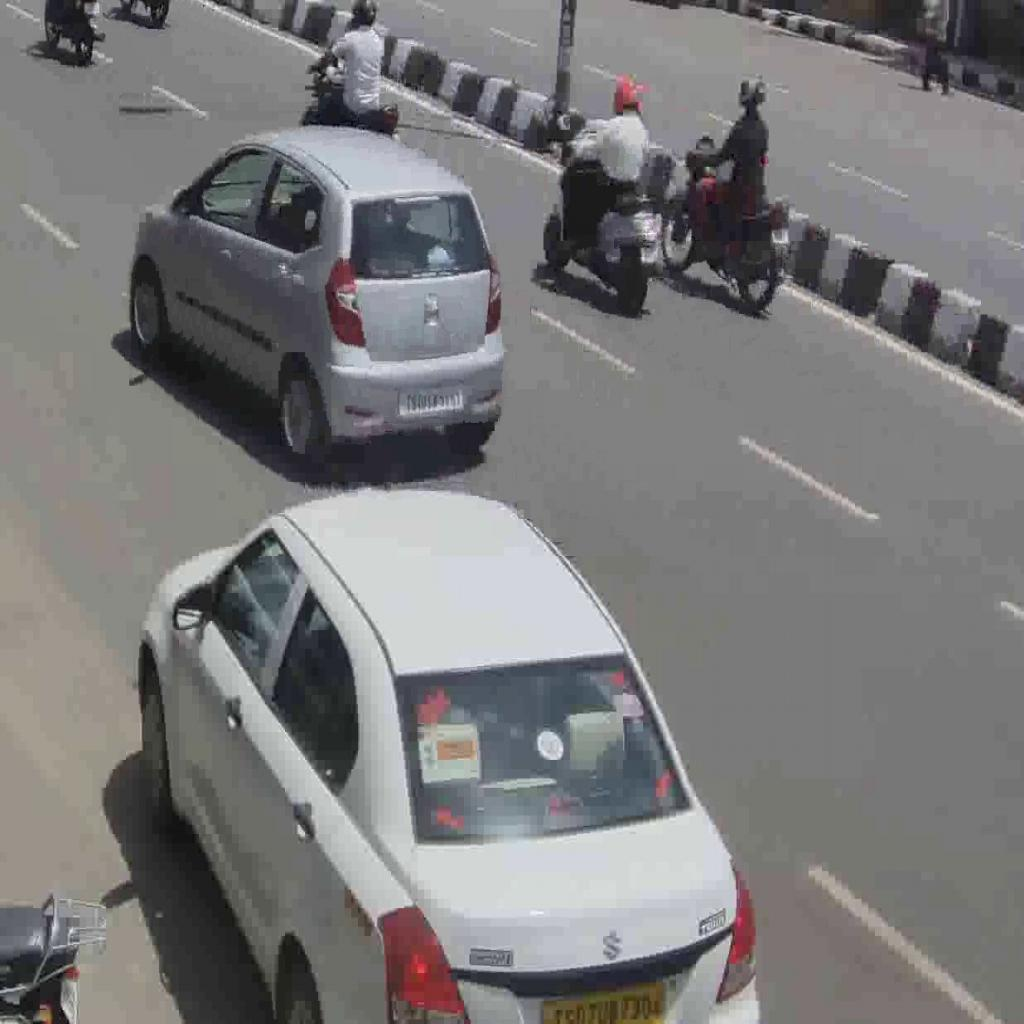bike: (542, 118, 661, 317), (662, 132, 792, 314)
helmet: (611, 71, 644, 118), (736, 72, 770, 112)
lisc: (640, 246, 659, 264), (771, 228, 789, 245)
rider: (559, 71, 646, 269), (684, 72, 770, 262)
